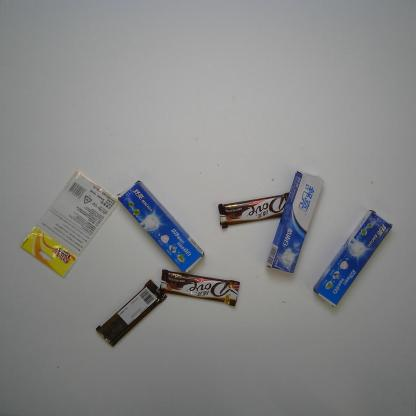Chocolate: (93, 279, 168, 348), (159, 264, 242, 307), (218, 191, 294, 230)
Personal Hygiene: (116, 177, 205, 276), (310, 208, 394, 310), (262, 170, 324, 276)
Stationery: (15, 169, 122, 279)
